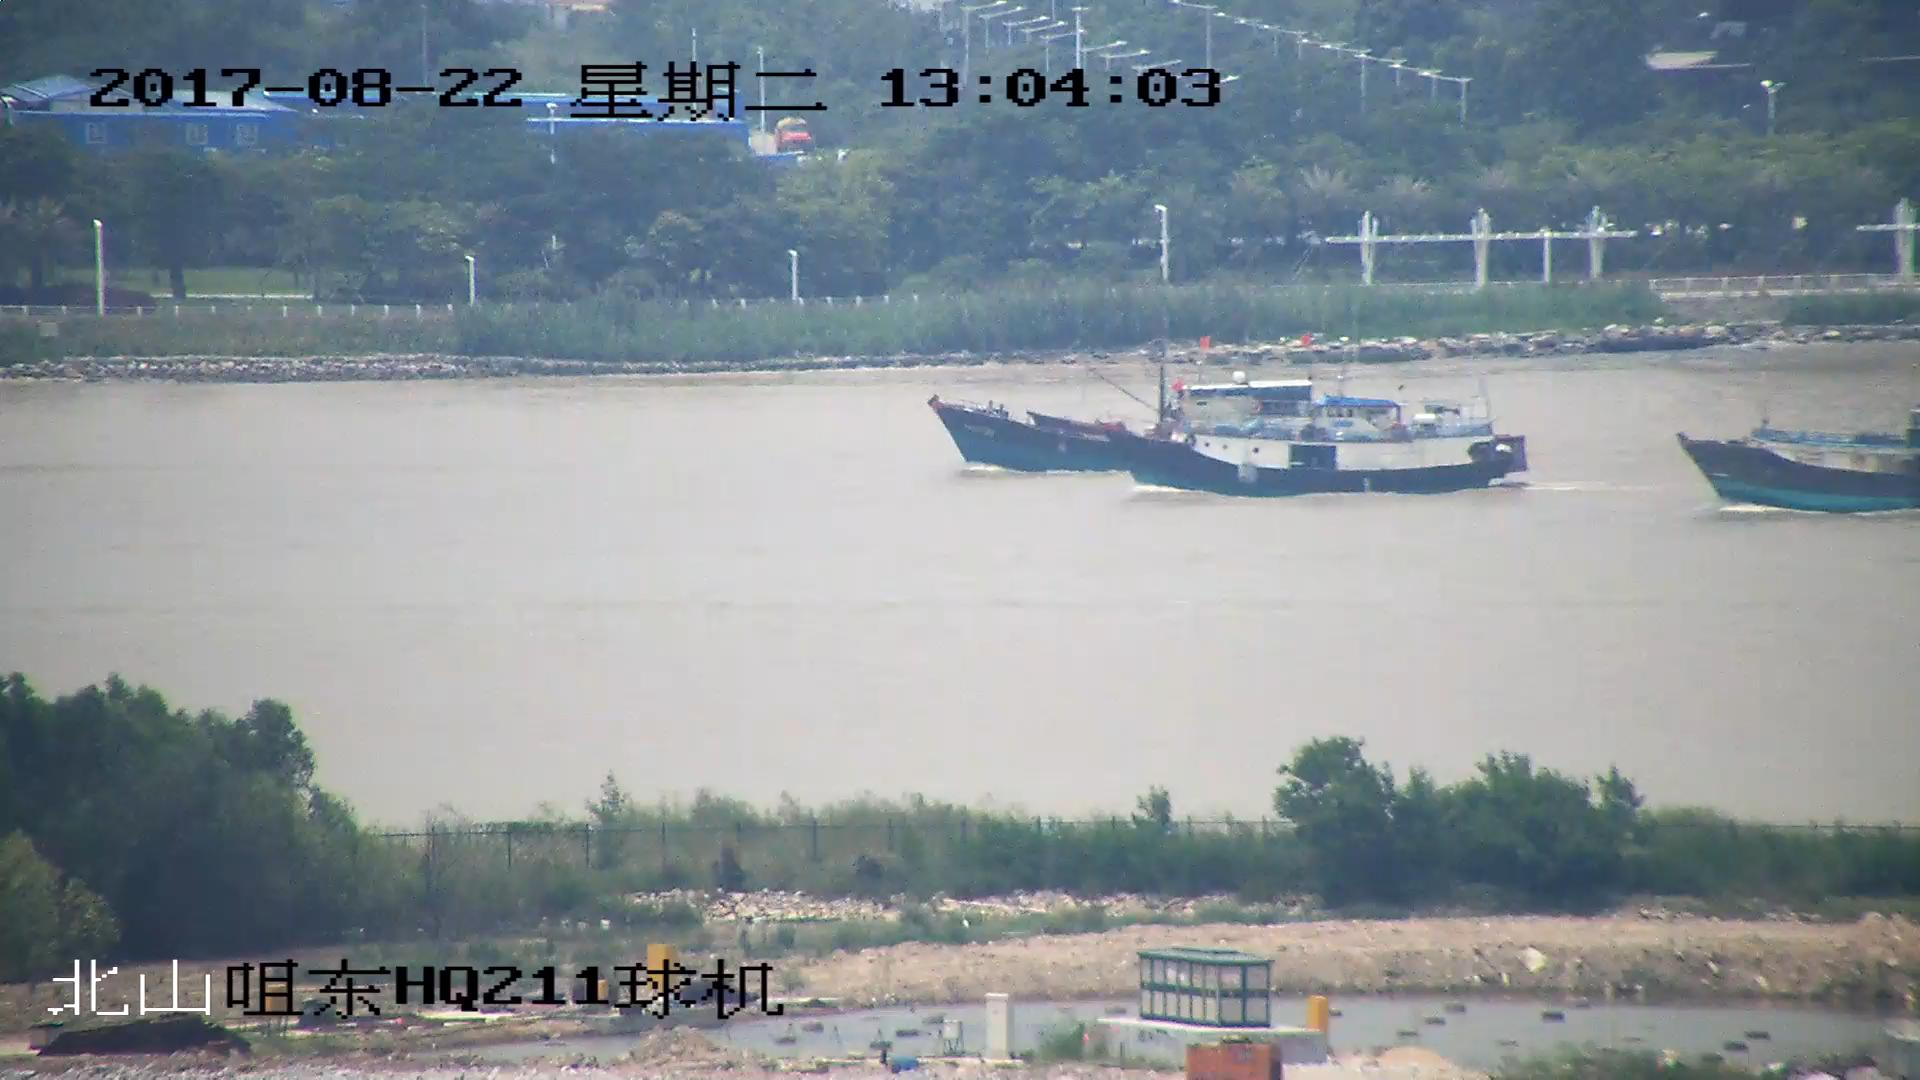fishing boat: (1112, 386, 1525, 501), (935, 378, 1338, 476), (1676, 414, 1920, 514)
